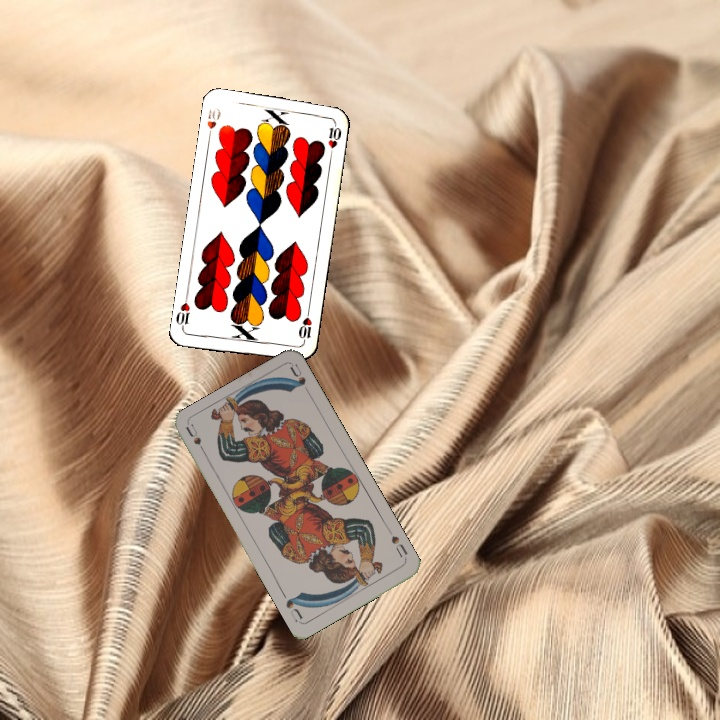H10: (294, 307, 314, 347), (203, 104, 223, 143)
SU: (182, 421, 210, 460), (384, 525, 410, 563)
